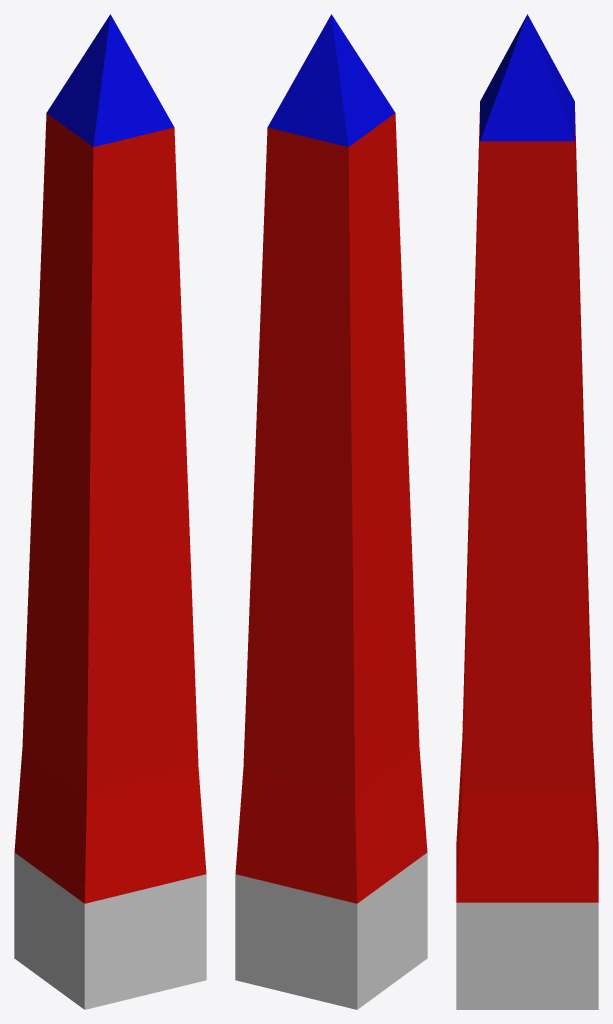
The model's file is Obelisk.fbx.
3 views of the same model, side by side, from view 1: azimuth 30°, elevation 25°; view 2: azimuth 150°, elevation 25°; view 3: azimuth 270°, elevation 25° (orthographic).
Visible parts, largest first — view 1: Cube; view 2: Cube; view 3: Cube.
Part boxes in pixels (x1=…): Cube: x1=14, y1=14, x2=206, y2=1009; Cube: x1=235, y1=14, x2=427, y2=1009; Cube: x1=456, y1=14, x2=598, y2=1009.
Size of the model in its own units: 600 by 4500 by 600.
